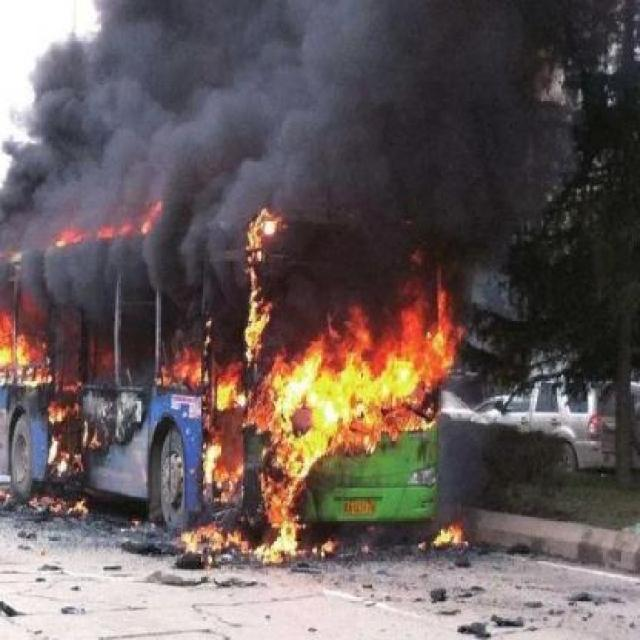Fire: (238, 314, 444, 514), (316, 292, 450, 438), (182, 526, 304, 563), (246, 210, 272, 364), (57, 206, 152, 246), (1, 316, 44, 382), (48, 401, 78, 476), (161, 344, 202, 388), (218, 364, 242, 410), (428, 524, 466, 548), (204, 440, 218, 483), (316, 534, 336, 560)
Smoke: (34, 0, 540, 243), (9, 123, 442, 300), (221, 127, 385, 273)
